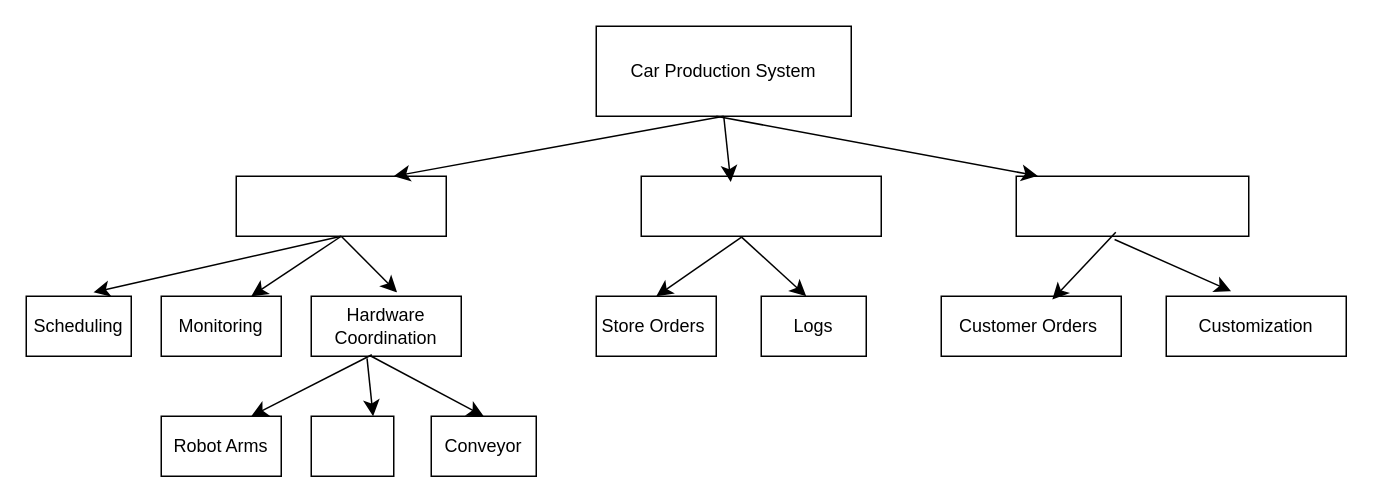
The diagram is 1373 pixels wide and 503 high, and some of its shapes have lost their labels. Each missing label, with the centre of its shape:
Data Management System: [760,205]
Drones: [352,445]
Production Management: [340,205]
Web Service: [1132,205]
